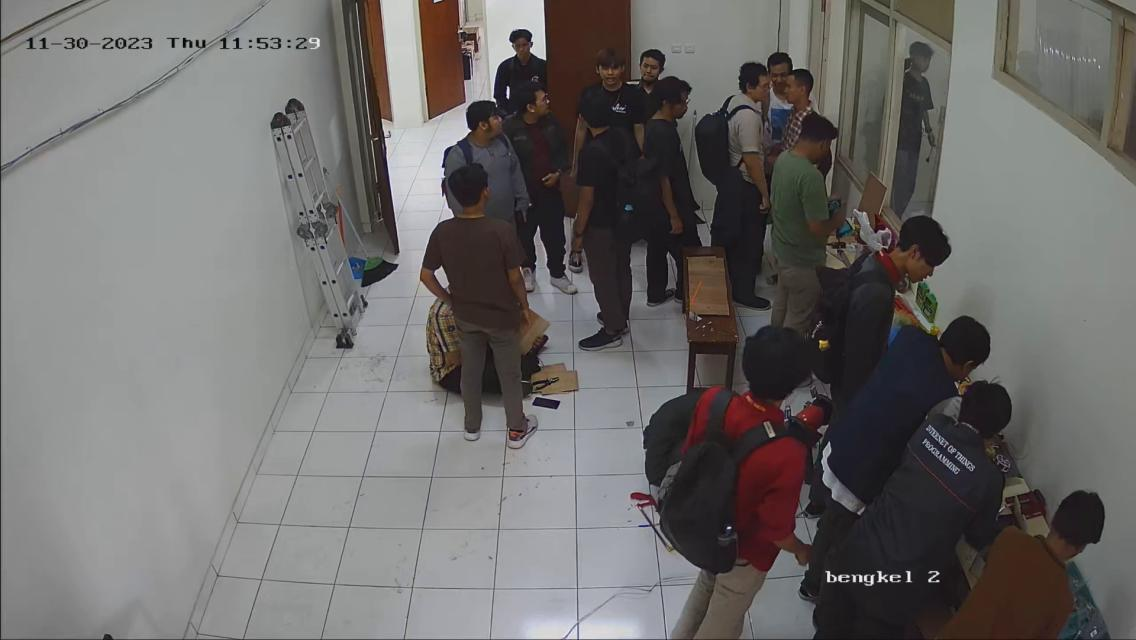Crowd: (406, 16, 842, 432)
